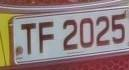0: (78, 15, 96, 52)
2: (60, 15, 80, 55), (95, 13, 112, 51)
5: (110, 11, 127, 48)
F: (36, 19, 57, 59)
T: (18, 20, 39, 60)
